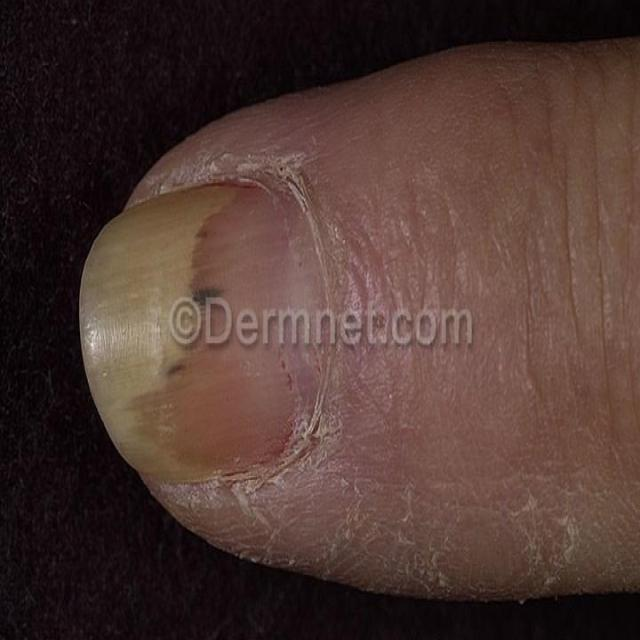Nail: (78, 184, 335, 486)
